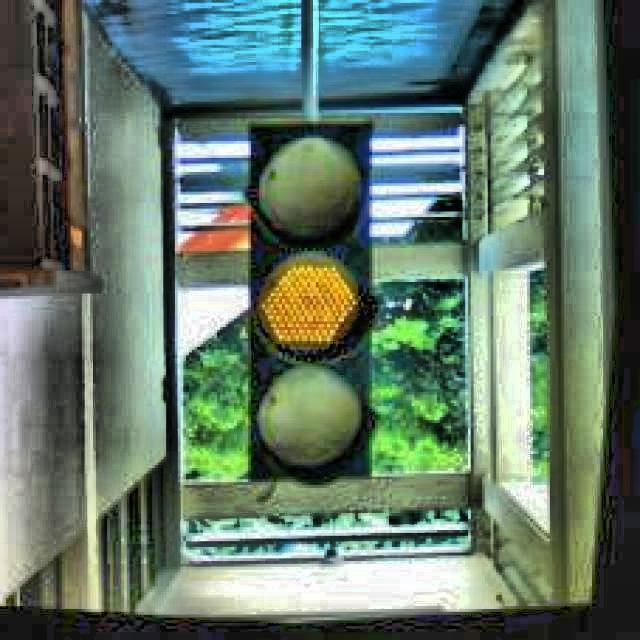yellow: (241, 118, 376, 482)
